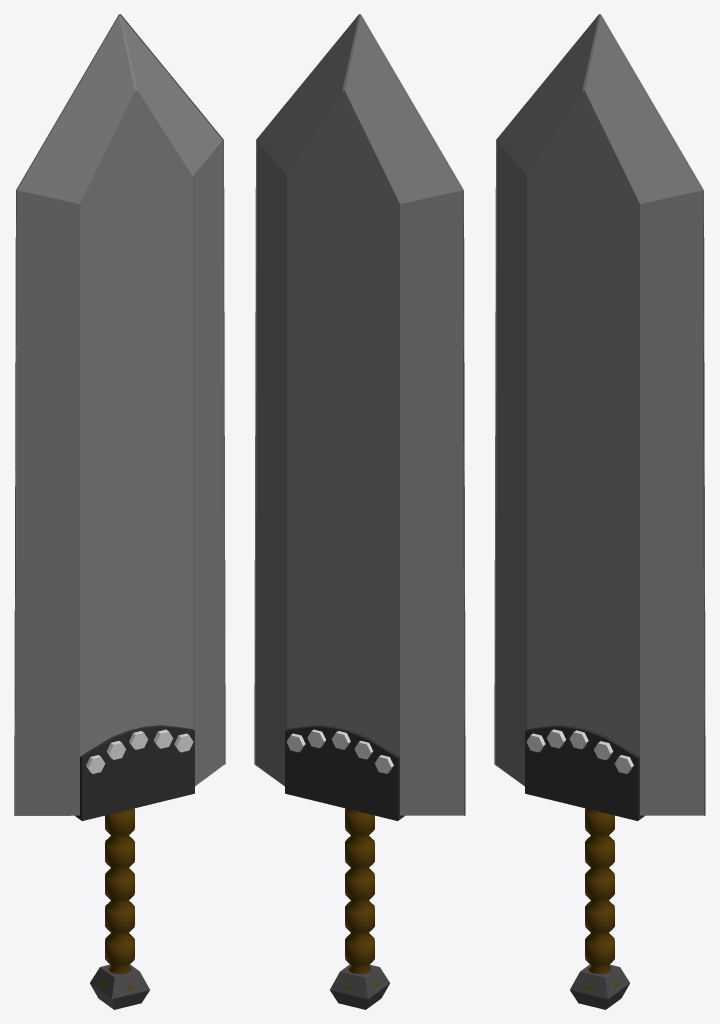
Rendered from swordSimpleBoltsShadingScratchesFinal.fbx.
3 views of the same model, side by side, from view 1: azimuth 30°, elevation 25°; view 2: azimuth 150°, elevation 25°; view 3: azimuth 330°, elevation 25° (orthographic).
Visible parts, largest first — view 1: Cube; view 2: Cube; view 3: Cube.
Part boxes in pixels (<box>): Cube: <box>14,14,225,1009</box>; Cube: <box>254,14,465,1009</box>; Cube: <box>494,14,705,1009</box>.
Size of the model in its own units: 287 by 1282 by 100.
